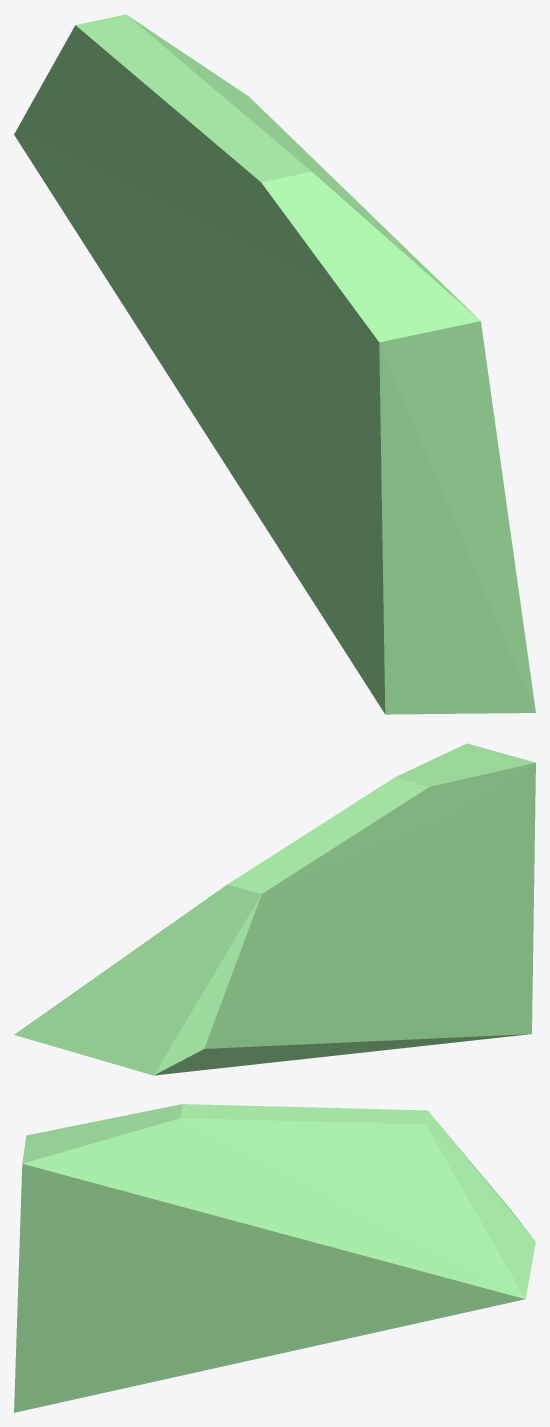
Rendered from dxxx_L2_respondable_PSM1_coll_13.dae.
3 renders of one model, top to bottom at view 1: azimuth 30°, elevation 25°; view 2: azimuth 150°, elevation 25°; view 3: azimuth 270°, elevation 25°, orthographic. The views are drawn at different scales.
Visible parts, largest first — view 1: Node_000001D818CB9710; view 2: Node_000001D818CB9710; view 3: Node_000001D818CB9710.
Part boxes in pixels (x1,y1,x2,y2): Node_000001D818CB9710: [14, 14, 535, 714]; Node_000001D818CB9710: [14, 743, 535, 1075]; Node_000001D818CB9710: [14, 1104, 535, 1412].
Bounding box in the file's own units: 0.0178 × 0.0267 × 0.0467.
